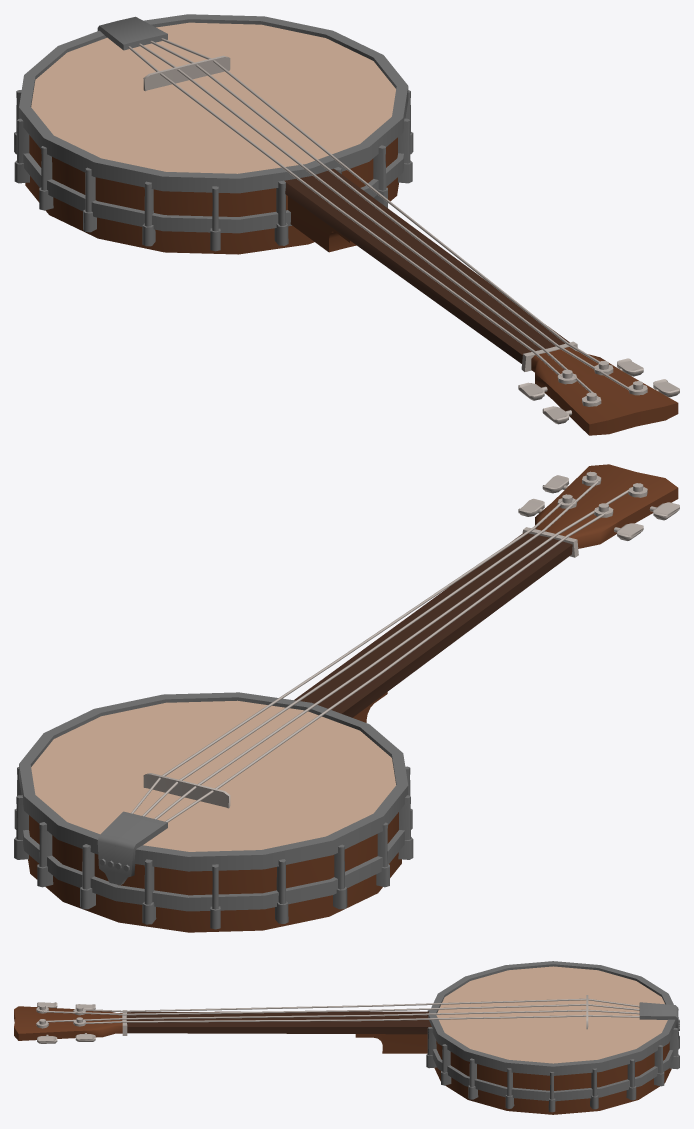
File: Banjo_01.fbx
3 views of the same model, one above another, from view 1: azimuth 30°, elevation 25°; view 2: azimuth 150°, elevation 25°; view 3: azimuth 270°, elevation 25° (orthographic). The views are drawn at different scales.
Parts seen in each view (by area): view 1: Banjo_01; view 2: Banjo_01; view 3: Banjo_01.
Part boxes in pixels (x1,y1,x2,y2): Banjo_01: (14,14,679,435); Banjo_01: (14,464,679,932); Banjo_01: (14,961,679,1114).
Size of the model in its own units: 0.3733 by 0.0918 by 0.965.
